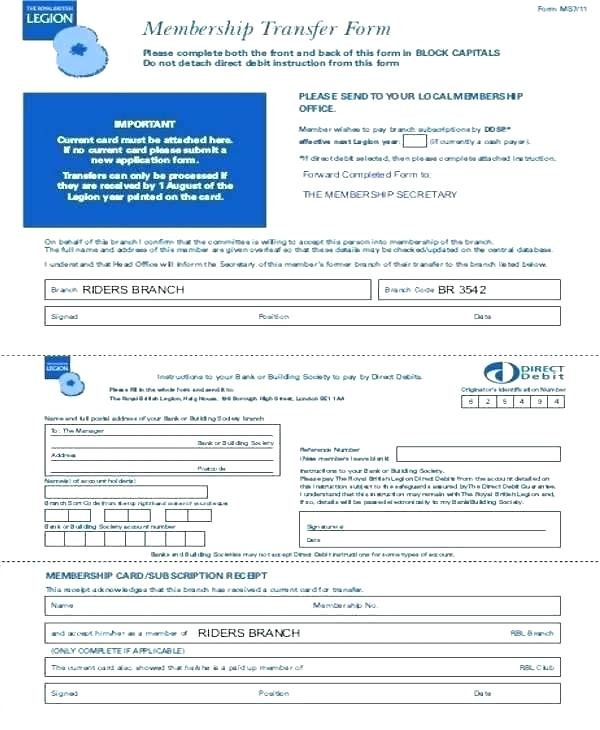textbox: (41, 678, 564, 706), (42, 303, 564, 328), (297, 509, 563, 550), (254, 679, 471, 705), (42, 679, 256, 705), (256, 303, 472, 327), (42, 305, 254, 328), (393, 442, 563, 464), (472, 303, 561, 328), (471, 683, 564, 705), (142, 528, 169, 550), (82, 528, 108, 550), (121, 529, 148, 550), (182, 528, 207, 550), (62, 528, 88, 549), (101, 506, 131, 524), (400, 133, 433, 149), (102, 529, 127, 550), (185, 506, 214, 524), (162, 529, 188, 549), (43, 529, 68, 548), (125, 507, 153, 523), (44, 506, 70, 523), (164, 506, 190, 523), (67, 506, 91, 523)
textline: (305, 515, 550, 533), (48, 449, 274, 463), (49, 461, 194, 474), (196, 463, 275, 475)
